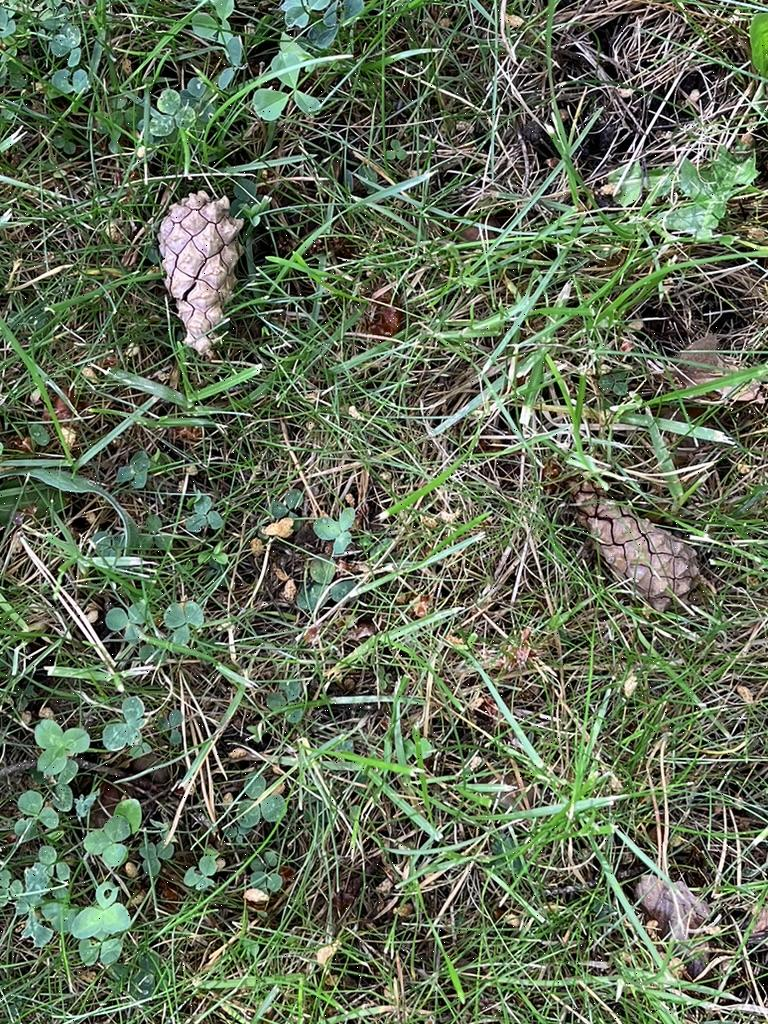pine: (548, 466, 724, 626), (146, 168, 261, 370)
